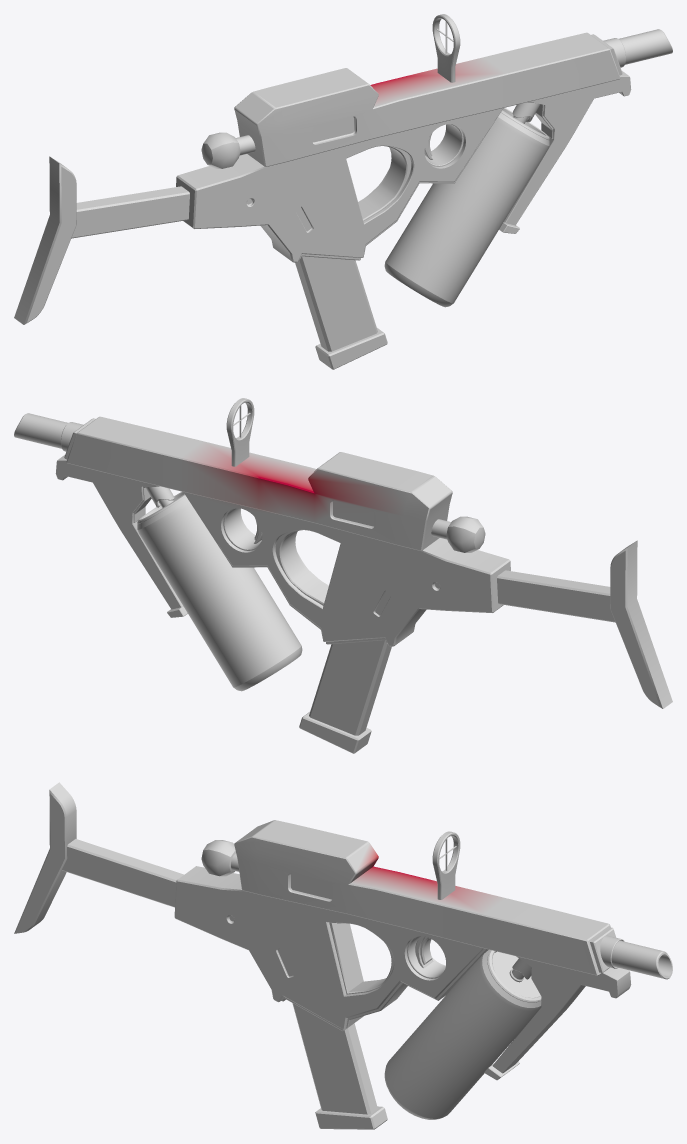
File: Arma.fbx
3 renders of one model, top to bottom at view 1: azimuth 30°, elevation 25°; view 2: azimuth 150°, elevation 25°; view 3: azimuth 330°, elevation 25°, orthographic.
Visible parts, largest first — view 1: Graffiti_Gun; view 2: Graffiti_Gun; view 3: Graffiti_Gun.
Boxes of the visible parts, box(x1,y1,x2,y2) form: Graffiti_Gun: box(14, 14, 672, 369); Graffiti_Gun: box(14, 398, 672, 753); Graffiti_Gun: box(14, 782, 672, 1129).
Bounding box in the file's own units: 274 × 129 × 29.38.
